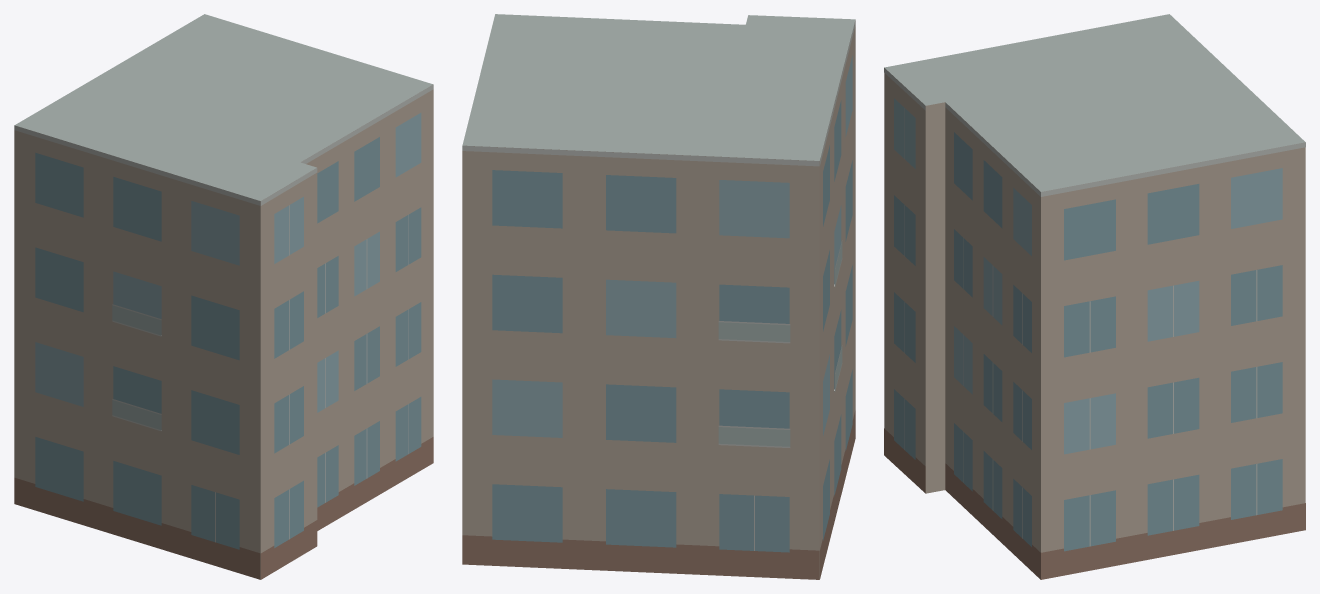
File: survey-upis-32741493.glb
3 renders of one model, left to right at view 1: azimuth 30°, elevation 25°; view 2: azimuth 150°, elevation 25°; view 3: azimuth 270°, elevation 25°, orthographic. The views are drawn at different scales.
Parts seen in each view (by area): view 1: survey-upis-32741493.tmp; view 2: survey-upis-32741493.tmp; view 3: survey-upis-32741493.tmp.
Part boxes in pixels (x1=…): survey-upis-32741493.tmp: x1=14, y1=14, x2=433, y2=579; survey-upis-32741493.tmp: x1=462, y1=14, x2=855, y2=579; survey-upis-32741493.tmp: x1=884, y1=14, x2=1305, y2=579.
Size of the model in its own units: 18.62 by 18.9 by 18.63.
